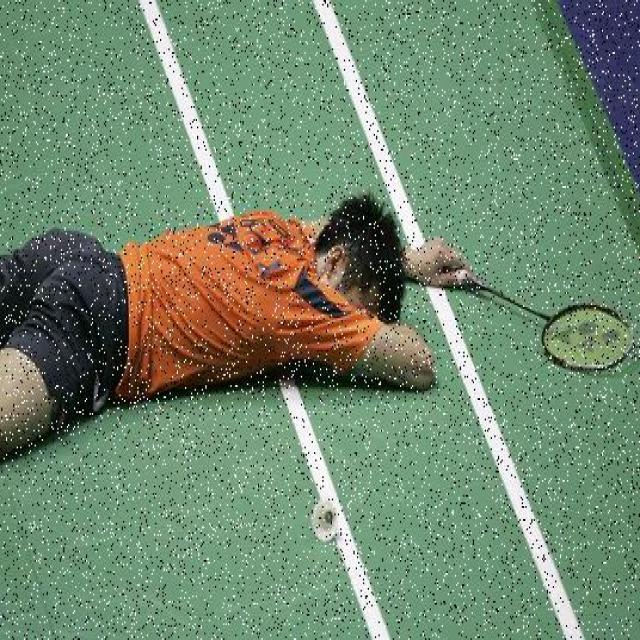fall: (0, 189, 464, 448)
